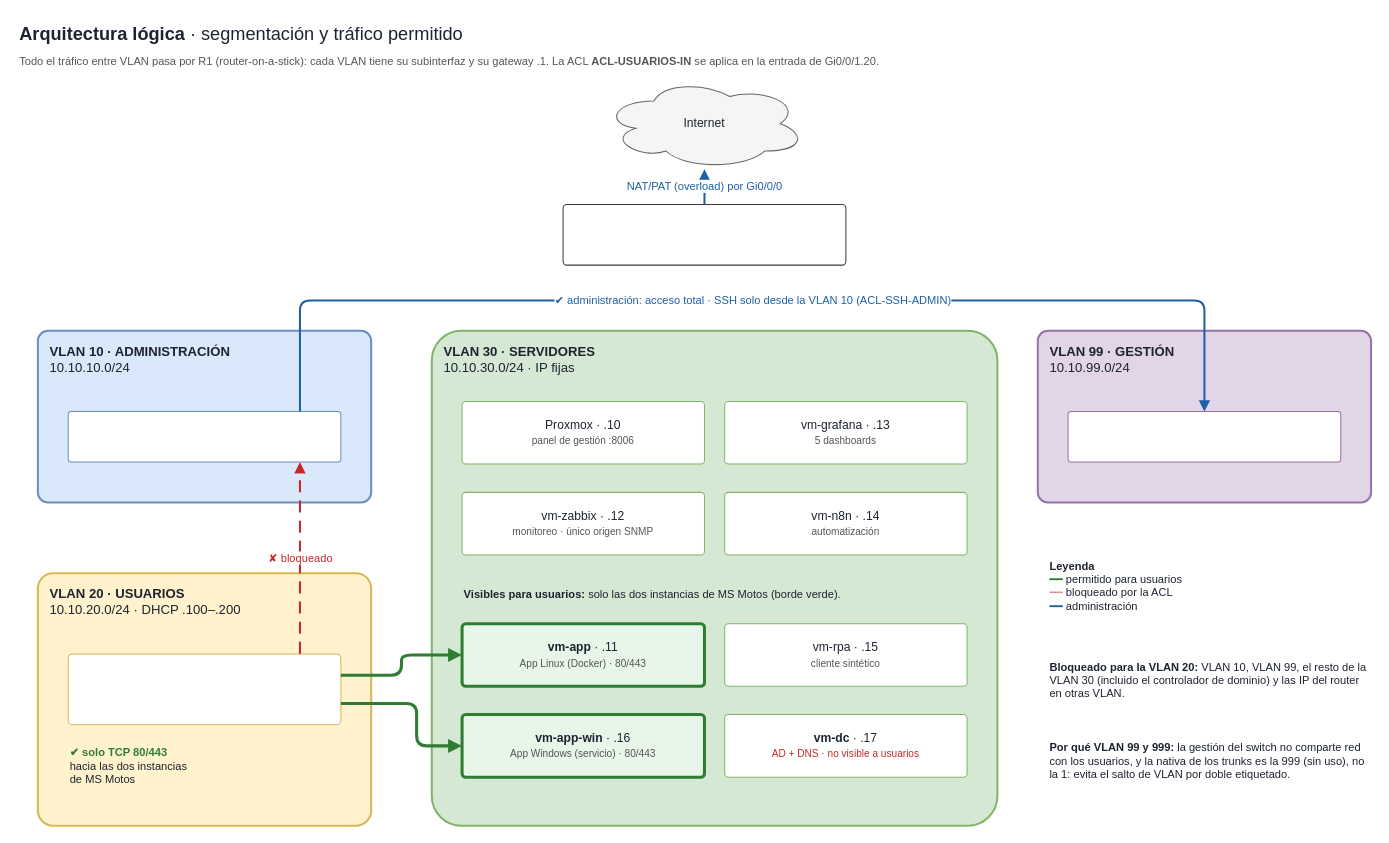
The diagram is 1389 pixels wide and 843 high, and some of its shapes have lost their labels. Each missing label, with the centre of its shape:
"PC-ADMIN · 10.10.10.10 IP fija" goes at pixel 204 436.
"PC-CLIENTE clientes y empleados del taller" goes at pixel 204 689.
"R1 · gateway .1 de cada VLAN NAT/PAT · DHCP de la VLAN 20 · ACL" goes at pixel 704 234.
"SW1 · SVI 10.10.99.2 SSH y SNMP del switch" goes at pixel 1204 436.
